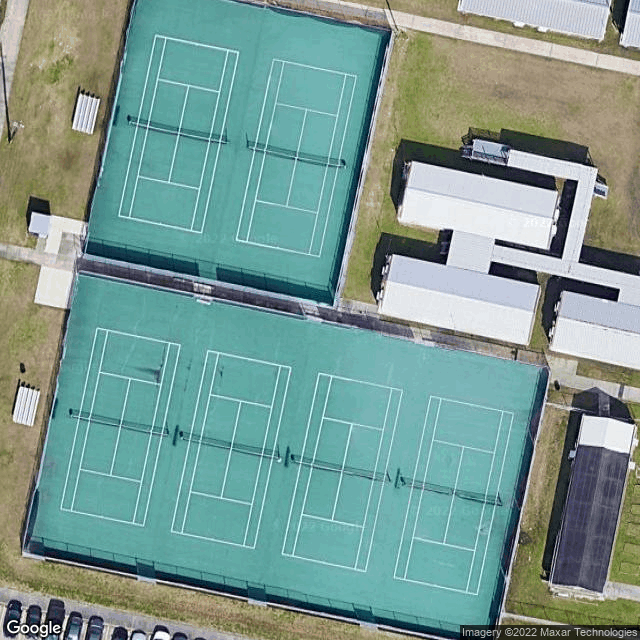Court: (234, 56, 358, 258), (116, 33, 240, 234), (280, 372, 404, 573), (392, 394, 515, 596), (59, 326, 182, 527), (170, 349, 292, 549)
